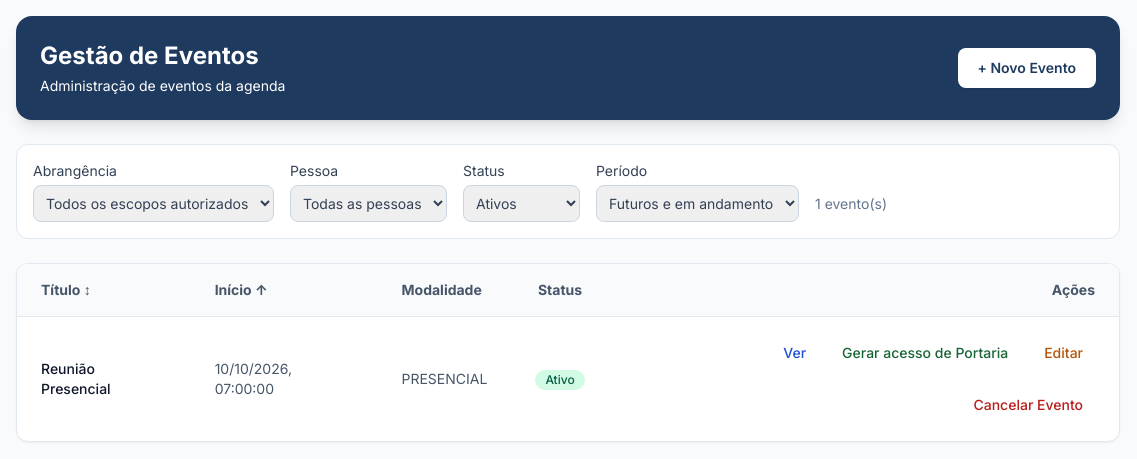
EventosView › Master filtra eventos por pessoa na API e pode limpar o filtro
This screenshot has width=1137, height=459.
Select "André" in the dropdown named "Filtrar por pessoa" at (368, 204), box x1=290 y1=185 x2=447 y2=222
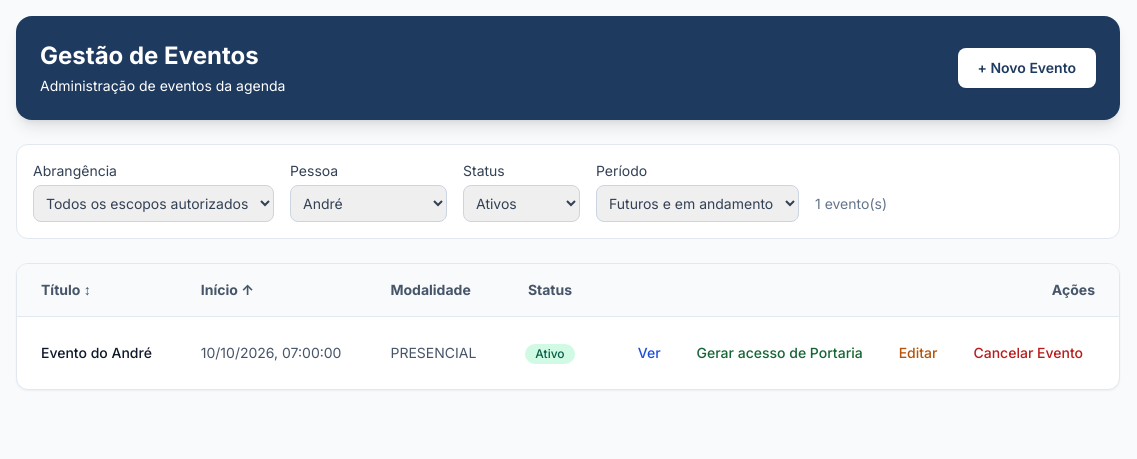
Expected: the text "Evento do André" is shown, x1=17 y1=316 x2=177 y2=389
Expected: the text "Reunião Presencial" is gone
Select "Todas as pessoas" in the dropdown named "Filtrar por pessoa" at (368, 204), box x1=290 y1=185 x2=447 y2=222
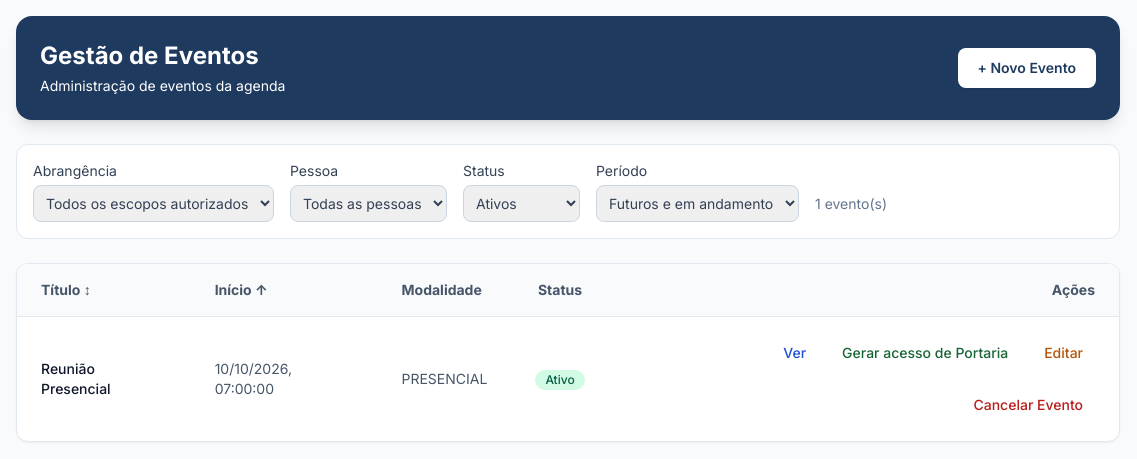
Expected: the text "Reunião Presencial" is shown, x1=17 y1=316 x2=191 y2=441
